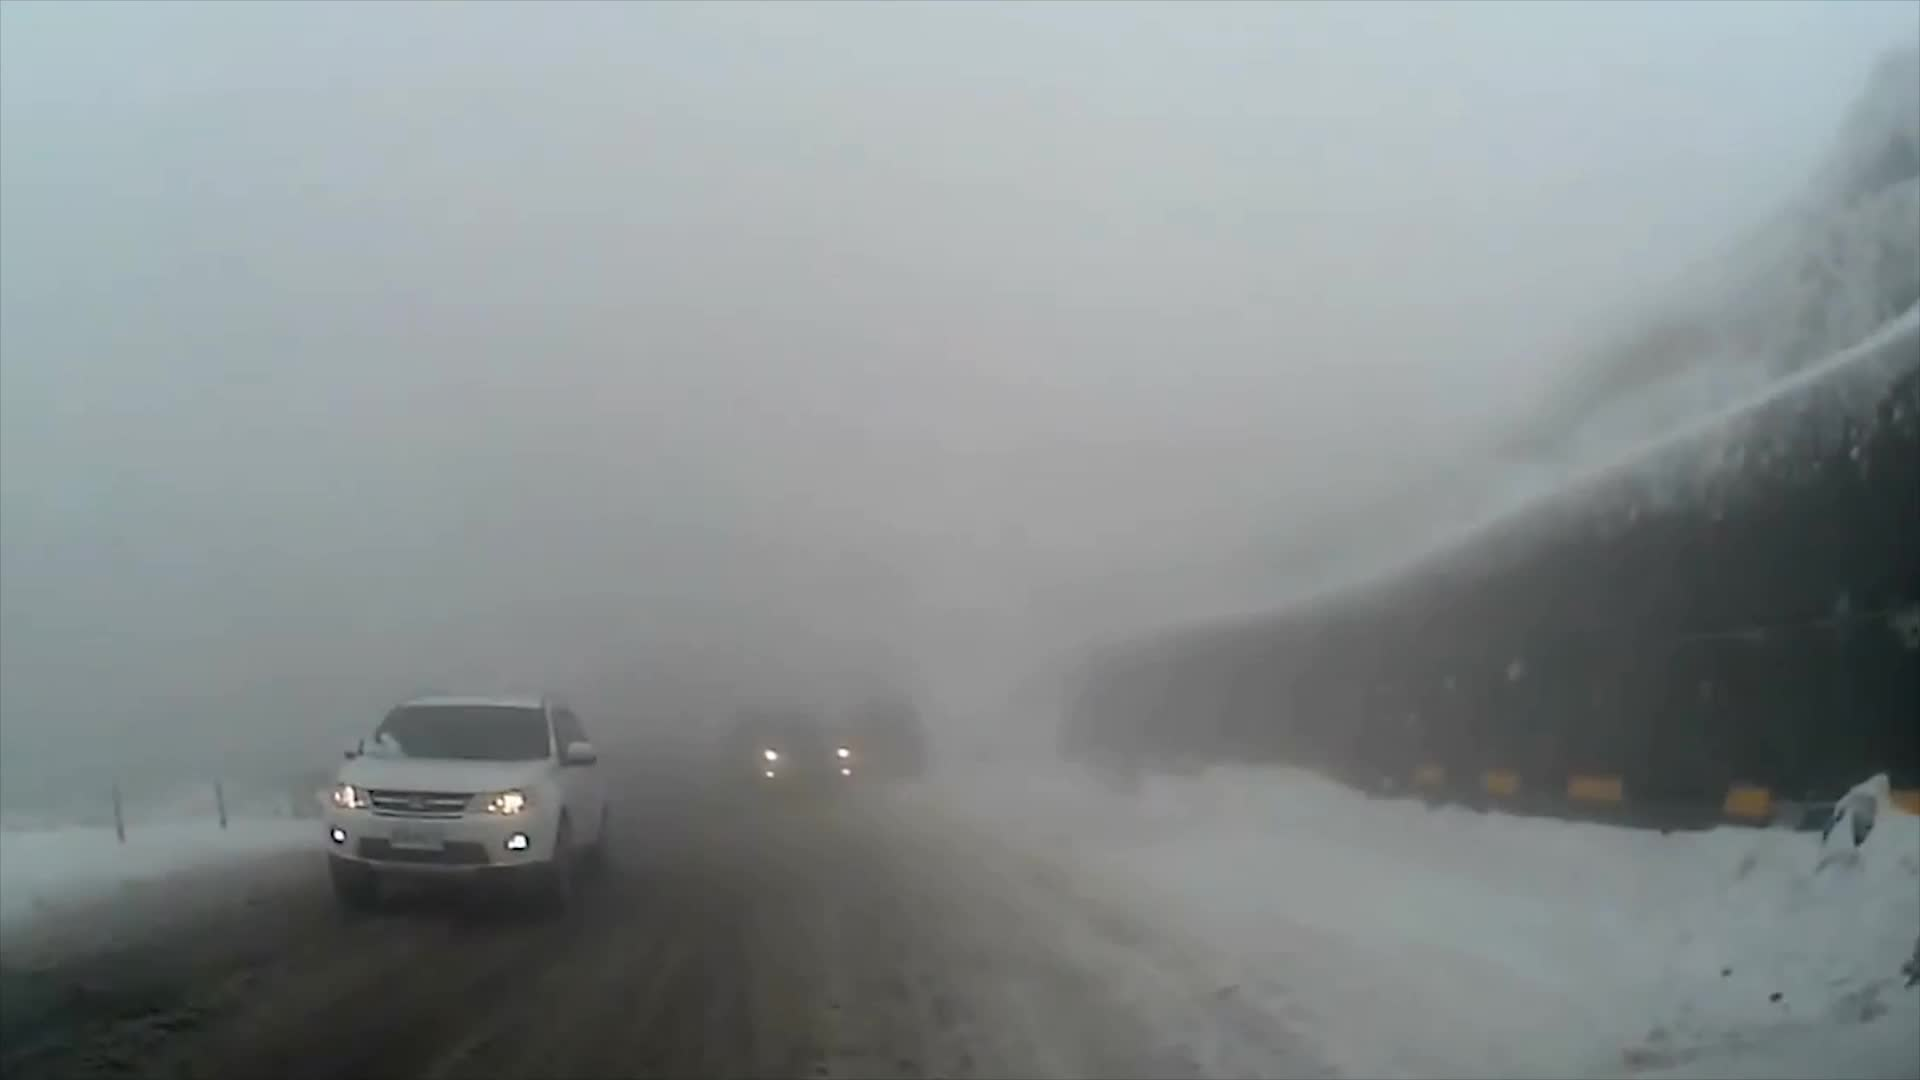vehicle: (318, 686, 612, 920), (717, 704, 856, 804)
